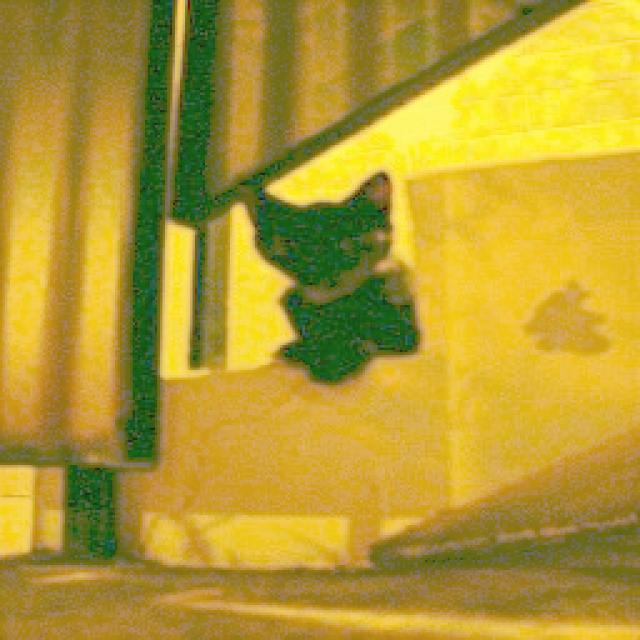cat: (201, 112, 471, 412)
